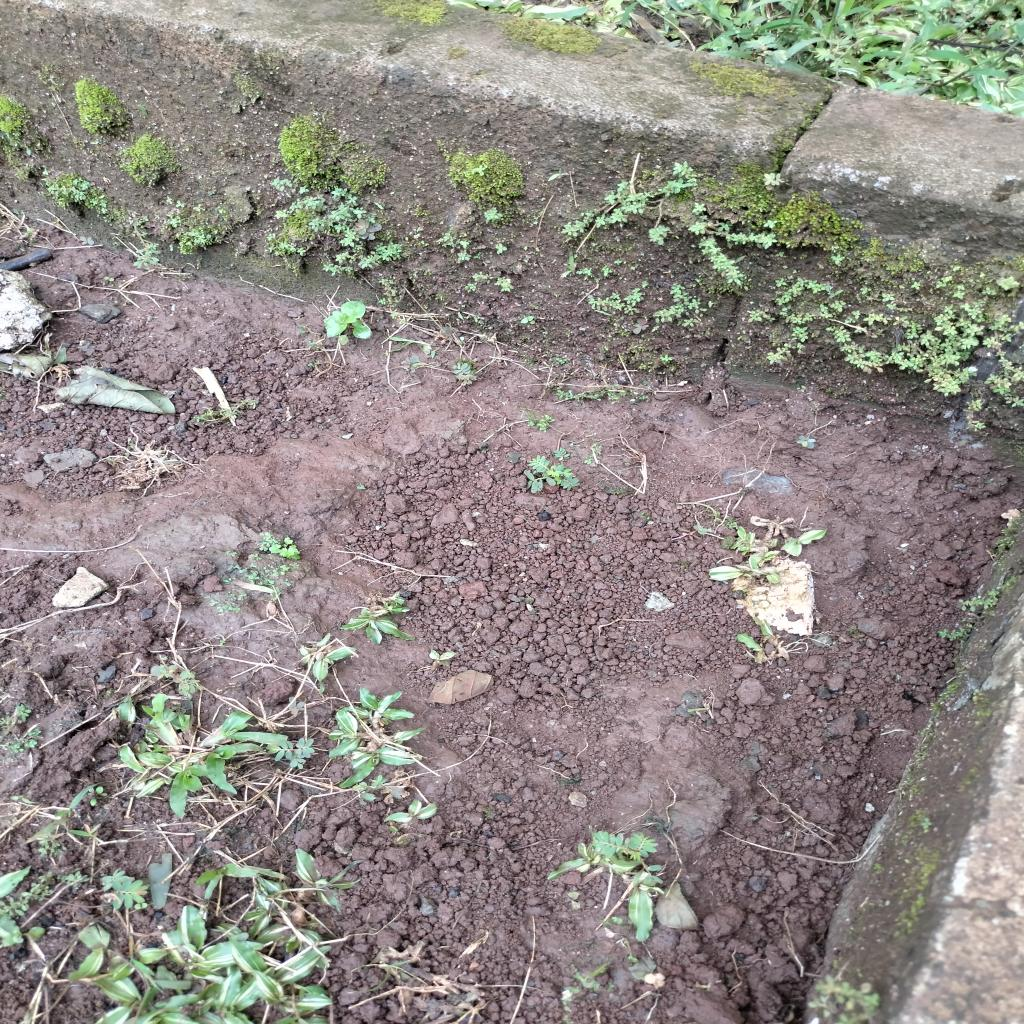bayi: (104, 276, 116, 284)
buah daun: (590, 824, 657, 866), (523, 452, 584, 494), (264, 732, 323, 770), (100, 868, 153, 910), (813, 32, 855, 72), (450, 359, 480, 390)
lumut besar: (691, 201, 781, 286), (562, 182, 650, 238), (898, 338, 976, 394), (322, 240, 408, 278), (190, 393, 262, 428), (1, 872, 57, 913), (826, 345, 901, 374), (654, 279, 698, 328), (584, 286, 646, 318), (934, 304, 987, 340), (774, 272, 830, 303), (990, 359, 1024, 409), (954, 586, 1009, 610), (129, 242, 167, 272), (276, 197, 330, 218), (987, 313, 1015, 351), (935, 626, 979, 648), (479, 203, 509, 228), (329, 184, 362, 206), (524, 411, 557, 432), (671, 160, 698, 182), (648, 226, 673, 248), (493, 276, 522, 294), (747, 304, 770, 326), (266, 178, 294, 194), (832, 324, 854, 344)
masker: (736, 8, 758, 26), (714, 4, 734, 19), (268, 542, 283, 556), (279, 547, 296, 558), (282, 536, 296, 546)
rambat atas: (735, 0, 860, 48), (935, 50, 1010, 84), (140, 966, 167, 1004)
tunggang besar: (323, 297, 374, 343)
